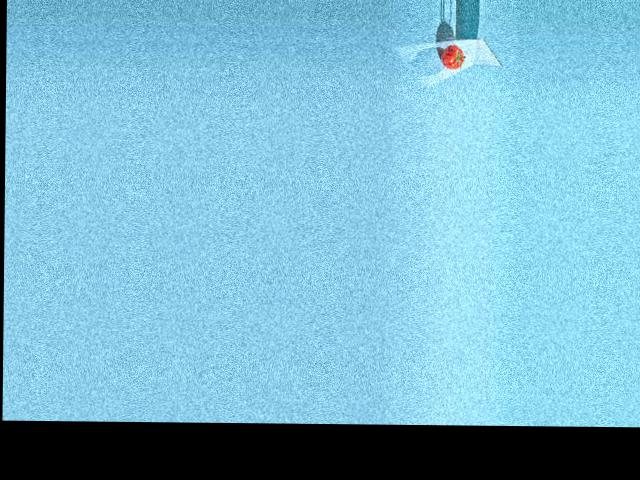tomato: (441, 44, 464, 69)
